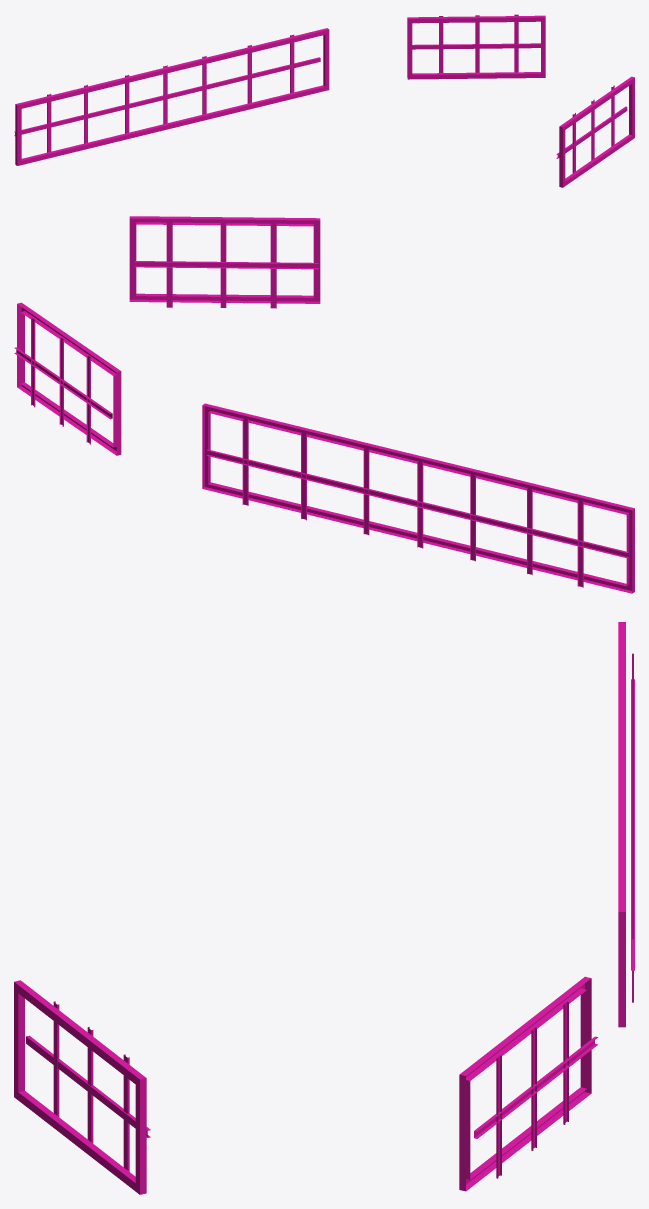
Rendered from GradesJanelasVagaoFinal.fbx.
The picture shows the model from 3 angles, top to bottom: view 1: azimuth 30°, elevation 25°; view 2: azimuth 150°, elevation 25°; view 3: azimuth 270°, elevation 25°; orthographic projection. The views are drawn at different scales.
Visible parts, largest first — view 1: Grade_janela.001; view 2: Grade_janela.001; view 3: Grade_janela.001.
Boxes of the visible parts, x1,y1,x2,y2 form: Grade_janela.001: (14, 14, 634, 187); Grade_janela.001: (14, 216, 634, 593); Grade_janela.001: (14, 622, 634, 1194).
Bounding box in the file's own units: 13644 × 1670 × 7826.
